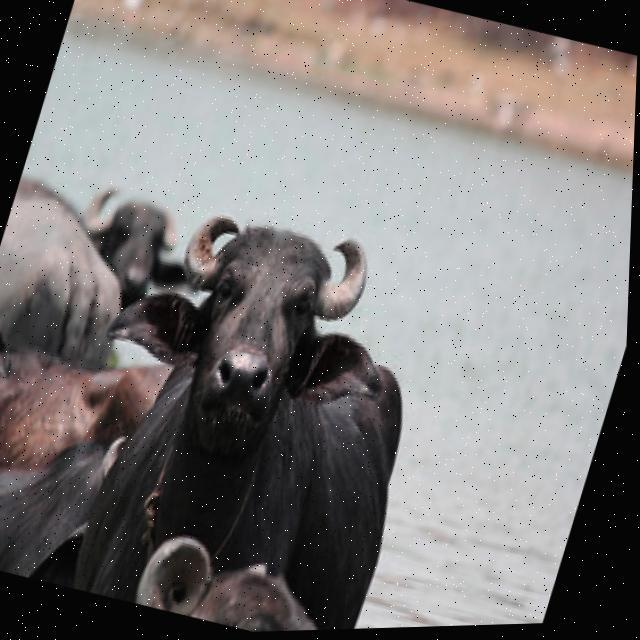Buffalo: (30, 180, 463, 638)
